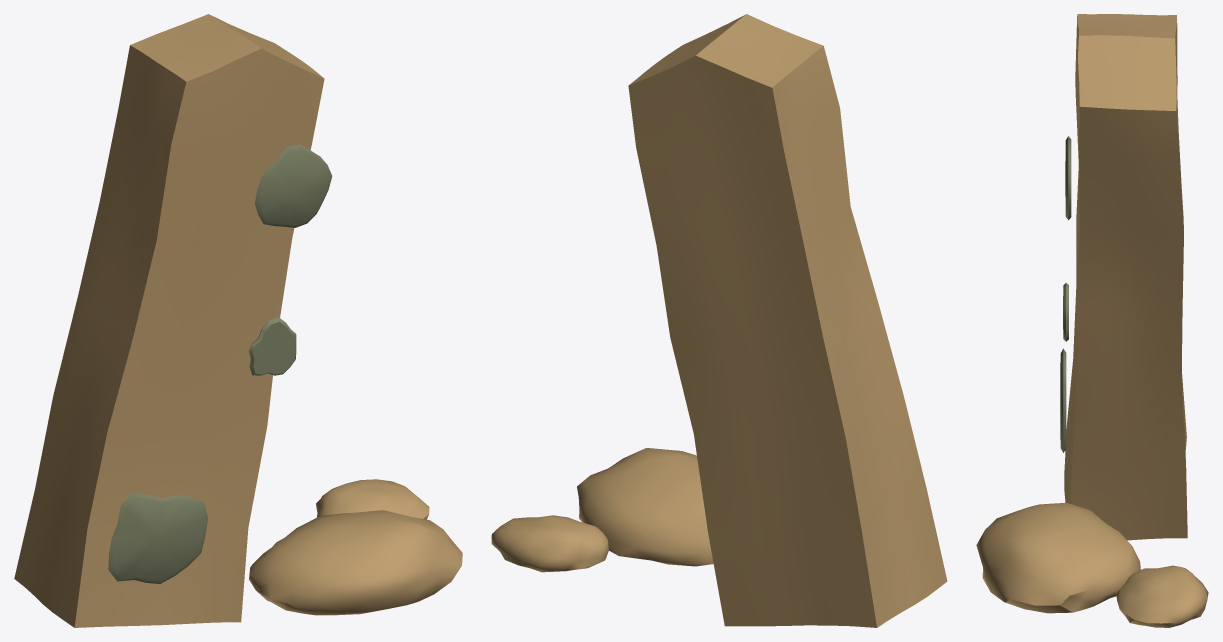
The model's file is deco_standing_stone_leaning.fbx.
3 views of the same model, side by side, from view 1: azimuth 30°, elevation 25°; view 2: azimuth 150°, elevation 25°; view 3: azimuth 270°, elevation 25° (orthographic). The views are drawn at different scales.
Visible parts, largest first — view 1: StandingStone_Leaning_Stone, StandingStone_Leaning_BrokenPiece, StandingStone_Leaning_Lichen; view 2: StandingStone_Leaning_Stone, StandingStone_Leaning_BrokenPiece; view 3: StandingStone_Leaning_Stone, StandingStone_Leaning_BrokenPiece, StandingStone_Leaning_Lichen.
Boxes of the visible parts, bbox=[...] form: StandingStone_Leaning_Stone: bbox=[14, 14, 324, 627]; StandingStone_Leaning_BrokenPiece: bbox=[249, 479, 462, 615]; StandingStone_Leaning_Lichen: bbox=[108, 144, 332, 583]; StandingStone_Leaning_Stone: bbox=[628, 14, 947, 627]; StandingStone_Leaning_BrokenPiece: bbox=[491, 448, 713, 572]; StandingStone_Leaning_Stone: bbox=[1064, 14, 1187, 540]; StandingStone_Leaning_BrokenPiece: bbox=[976, 502, 1208, 627]; StandingStone_Leaning_Lichen: bbox=[1060, 136, 1071, 452].
Bounding box in the file's own units: 189 × 254 × 102.
